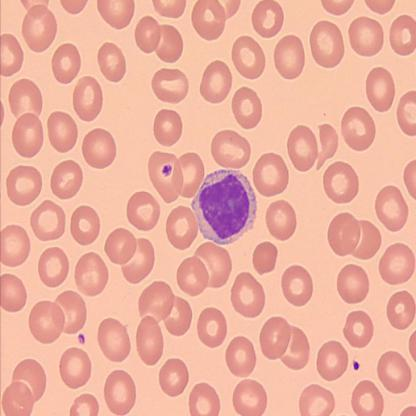Lymphocyte: (190, 169, 258, 243)
